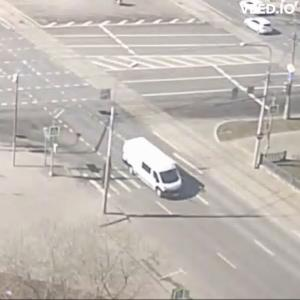car: (124, 143, 184, 200), (241, 1, 277, 17), (246, 18, 275, 35)
